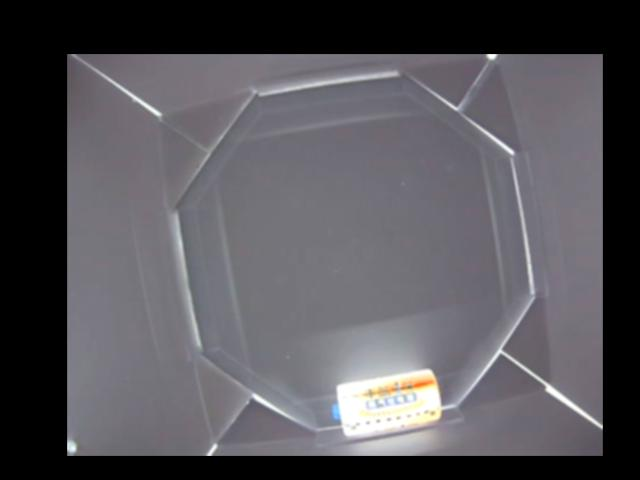Battery: (333, 367, 442, 435)
